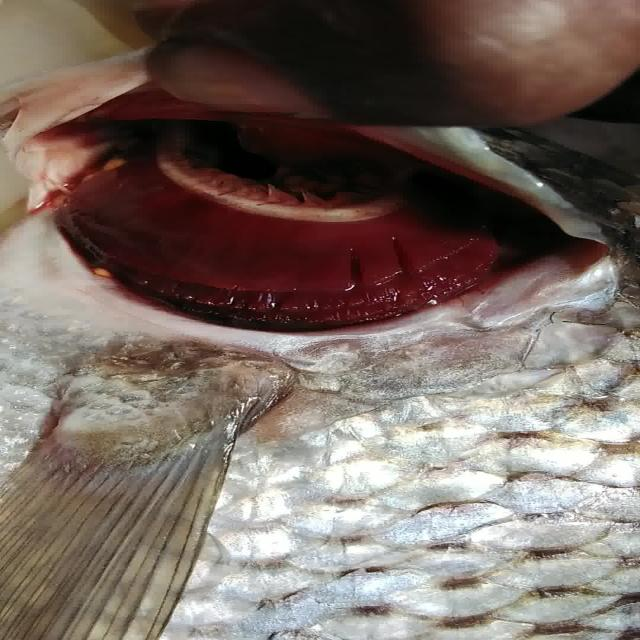Fresh: (26, 126, 628, 370)
